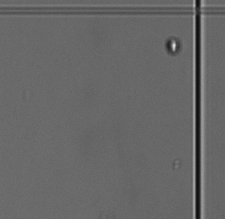Living Cell: (163, 35, 184, 56)
